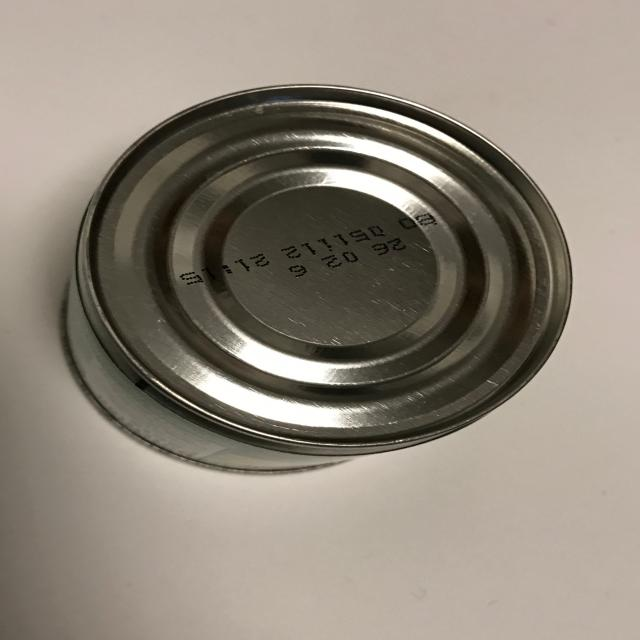Metal: (47, 65, 595, 528)
